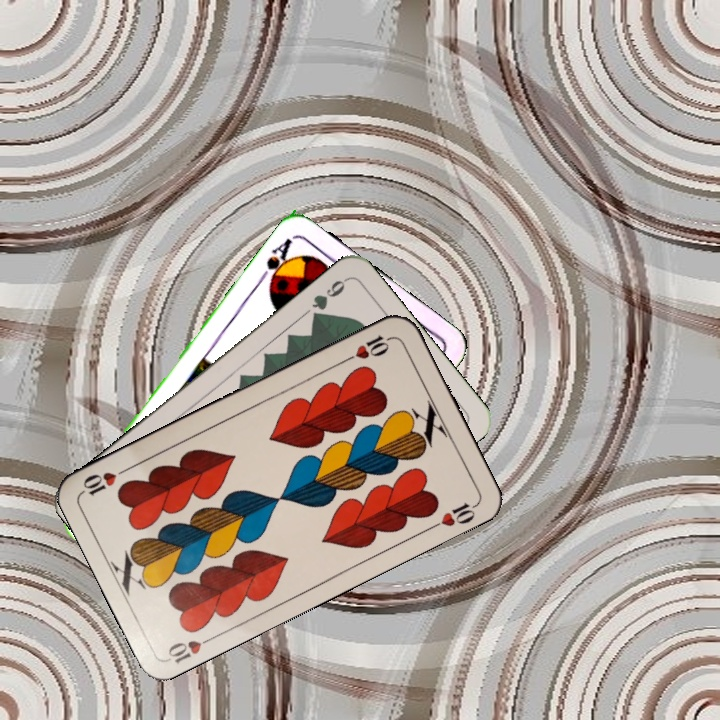G9: (307, 274, 350, 324)
H10: (163, 631, 219, 666), (339, 331, 394, 365)
SA: (255, 234, 296, 291)
